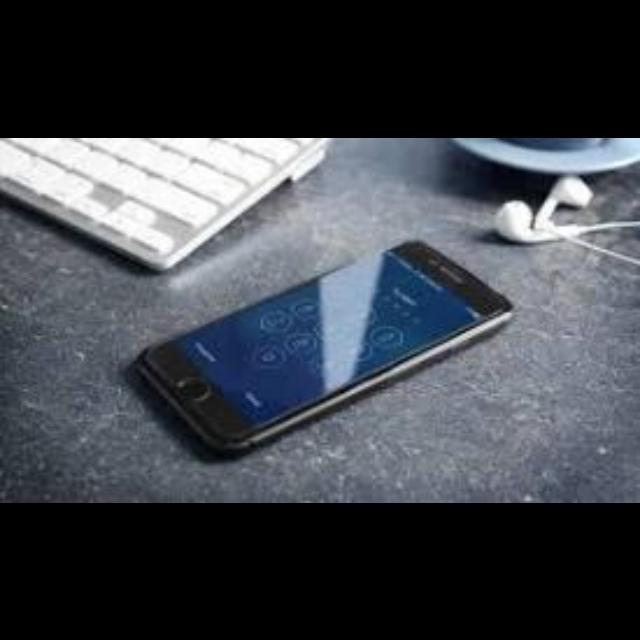phone: (122, 225, 512, 464)
